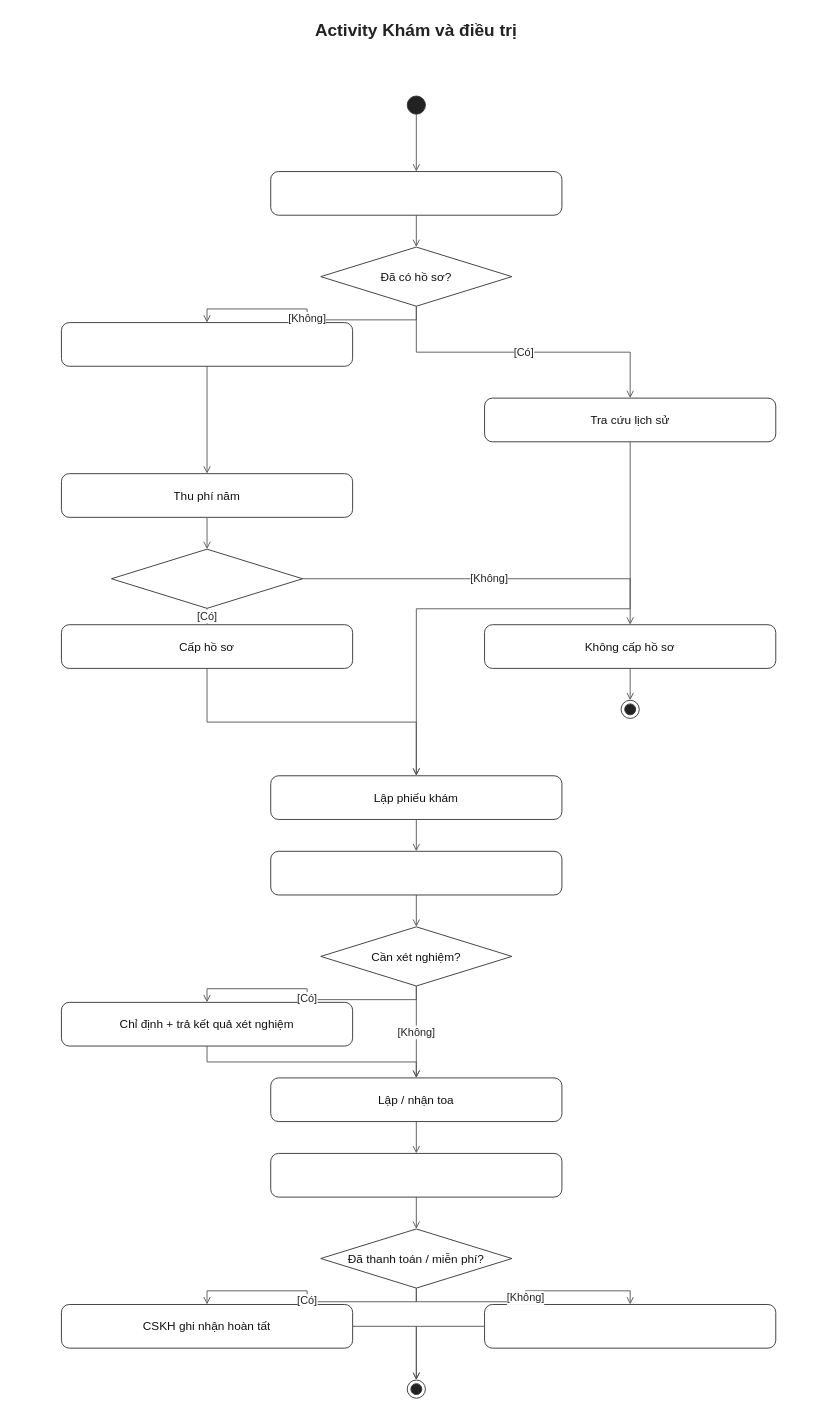
This 832x1414 diagram has some shape labels left out. The shapes that lost their labels are listed below. From the top down, each one's centre as x and y in pixels, then its label:
At (x=416, y=193): "Tiếp nhận bệnh nhân".
At (x=207, y=344): "Đăng ký mới".
At (x=207, y=578): "Đã thu phí?".
At (x=416, y=872): "Bác sĩ khám".
At (x=416, y=1175): "Thanh toán viện phí".
At (x=630, y=1326): "Chờ thanh toán".
